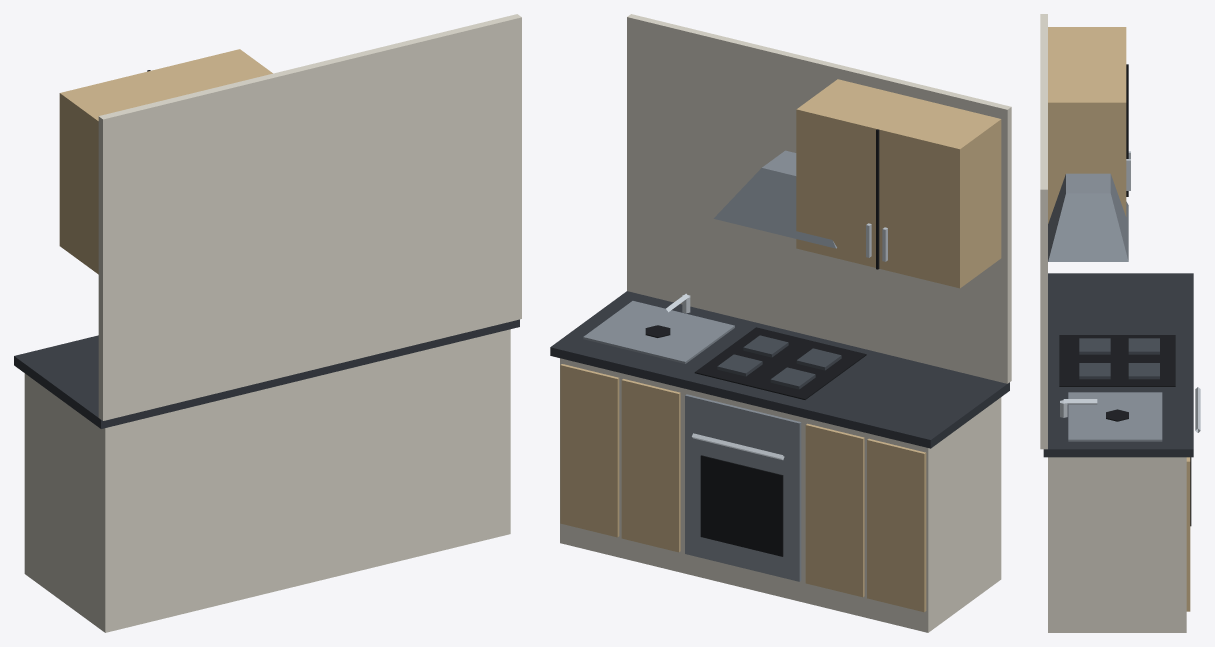
The model's file is kitchen_unit.glb.
3 renders of one model, left to right at view 1: azimuth 30°, elevation 25°; view 2: azimuth 150°, elevation 25°; view 3: azimuth 270°, elevation 25°, orthographic. The views are drawn at different scales.
Parts seen in each view (by area): view 1: Body; view 2: Body; view 3: Body.
Boxes of the visible parts, x1,y1,x2,y2 form: Body: (14,14,521,632); Body: (550,14,1011,632); Body: (1040,14,1200,632).
Bounding box in the file's own units: 1.86 × 2.2 × 0.717.
